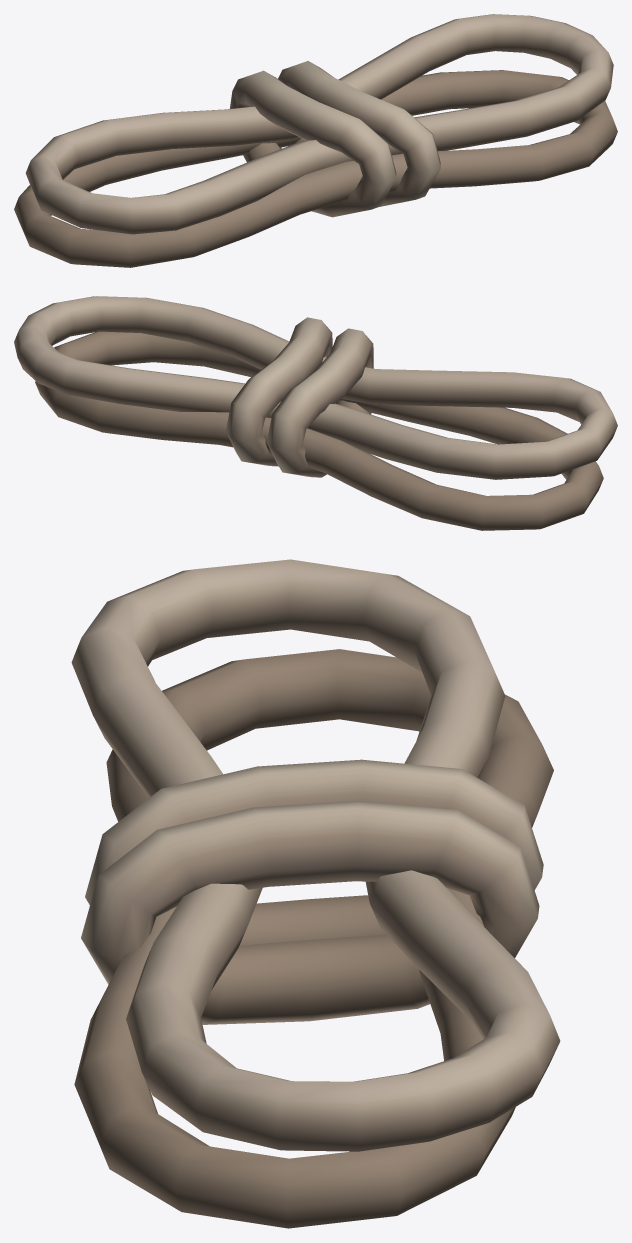
Rendered from rep.glb.
3 renders of one model, top to bottom at view 1: azimuth 30°, elevation 25°; view 2: azimuth 150°, elevation 25°; view 3: azimuth 270°, elevation 25°, orthographic. The views are drawn at different scales.
Parts seen in each view (by area): view 1: rope_bundle_A; view 2: rope_bundle_A; view 3: rope_bundle_A.
Part boxes in pixels (box(x1,y1,x2,y2)): rope_bundle_A: box(14, 14, 617, 267); rope_bundle_A: box(14, 296, 617, 530); rope_bundle_A: box(71, 559, 560, 1228).
Bounding box in the file's own units: 1.39 × 0.2519 × 0.5269.
Materials: 1 (1 with a texture image).
